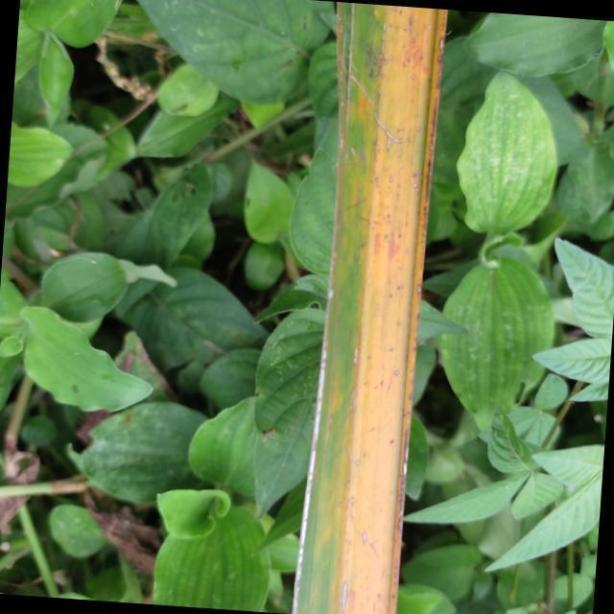Megnesium: (289, 0, 448, 614)
